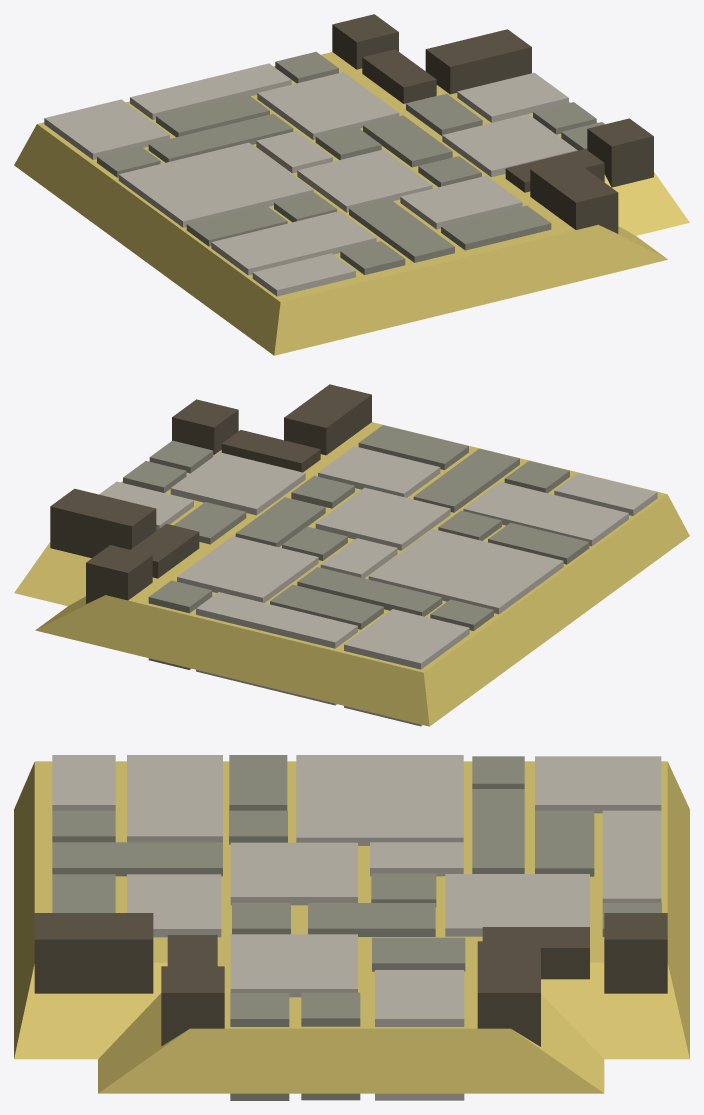
The model's file is ThreeWayHalfFilled.fbx.
The picture shows the model from 3 angles, top to bottom: view 1: azimuth 30°, elevation 25°; view 2: azimuth 150°, elevation 25°; view 3: azimuth 270°, elevation 25°; orthographic projection. The views are drawn at different scales.
Visible parts, largest first — view 1: Stone - Three Way Half Filled; view 2: Stone - Three Way Half Filled; view 3: Stone - Three Way Half Filled.
Boxes of the visible parts, <box> form: Stone - Three Way Half Filled: <box>14,14,689,355</box>; Stone - Three Way Half Filled: <box>14,384,689,726</box>; Stone - Three Way Half Filled: <box>14,755,689,1100</box>.
Size of the model in its own units: 106 by 19.07 by 107.
